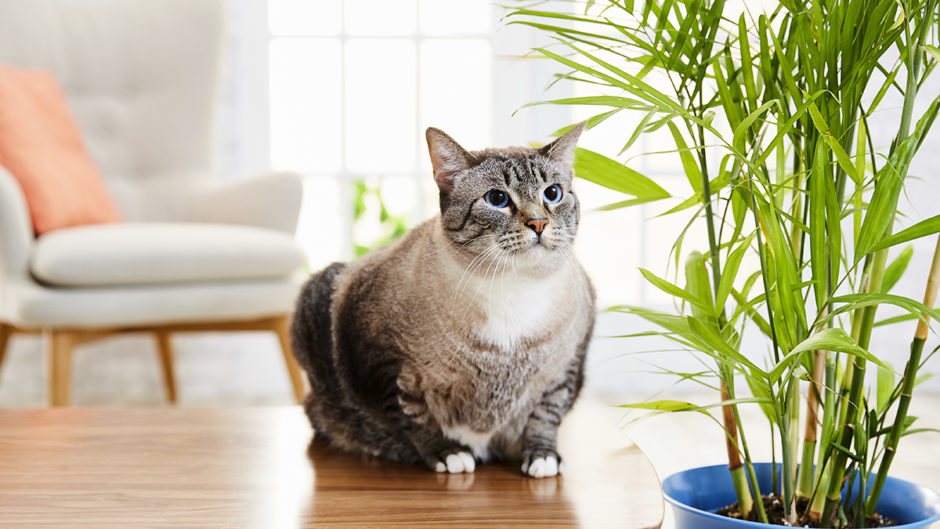cat: (252, 80, 626, 491)
plant: (497, 1, 940, 529)
